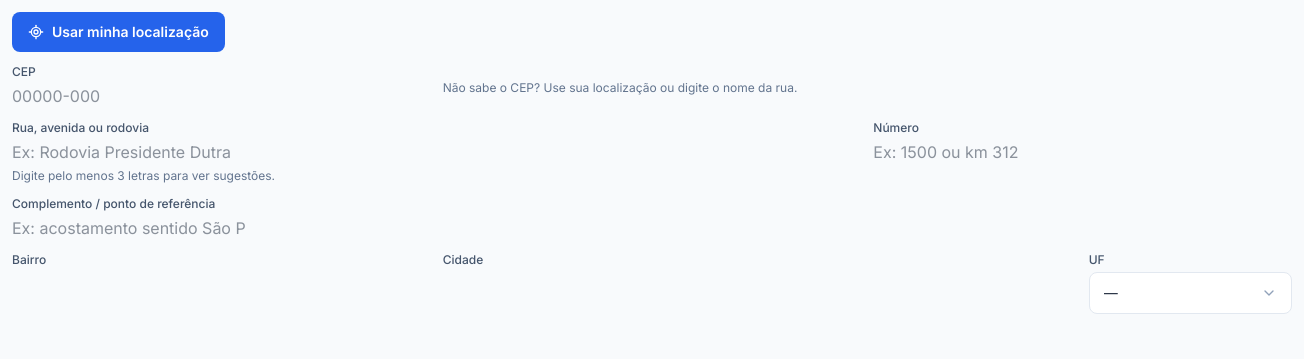
Test: campo de localização › avisa quando o CEP não existe
Type "99999999" into the field labelled "CEP". click: (129, 96)
box: [12, 84, 246, 108]
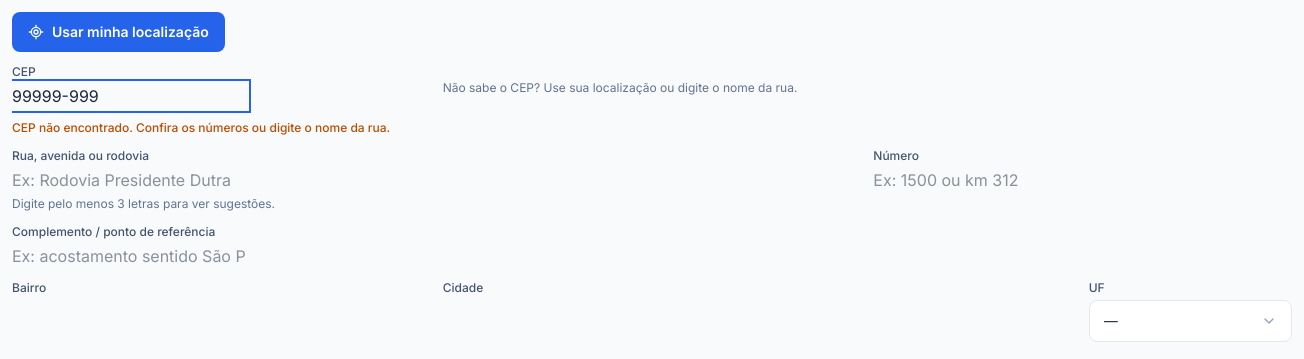
Now the message shows "CEP não encontrado", box [12, 120, 390, 135]
